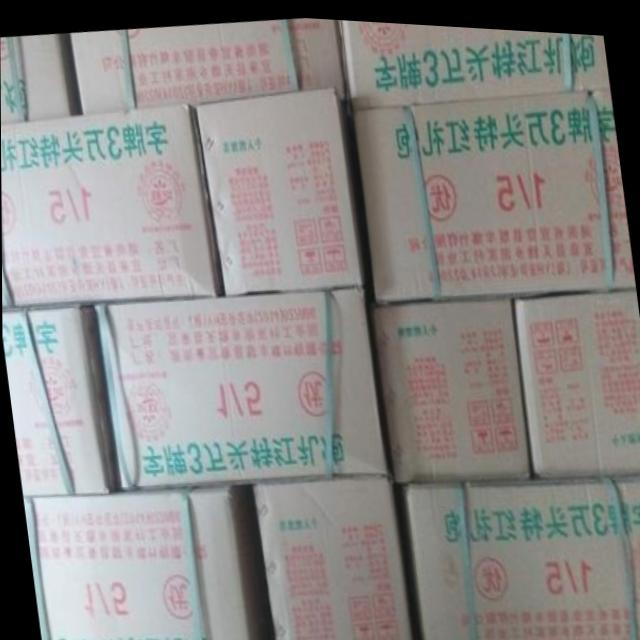box: (353, 79, 635, 297), (94, 283, 386, 489), (1, 100, 224, 308), (402, 467, 640, 640), (24, 480, 262, 640), (196, 82, 362, 293), (370, 288, 529, 478), (252, 472, 412, 640), (340, 16, 609, 106), (514, 280, 640, 472), (2, 302, 121, 497), (69, 16, 299, 113), (0, 33, 81, 123), (287, 14, 345, 95)
